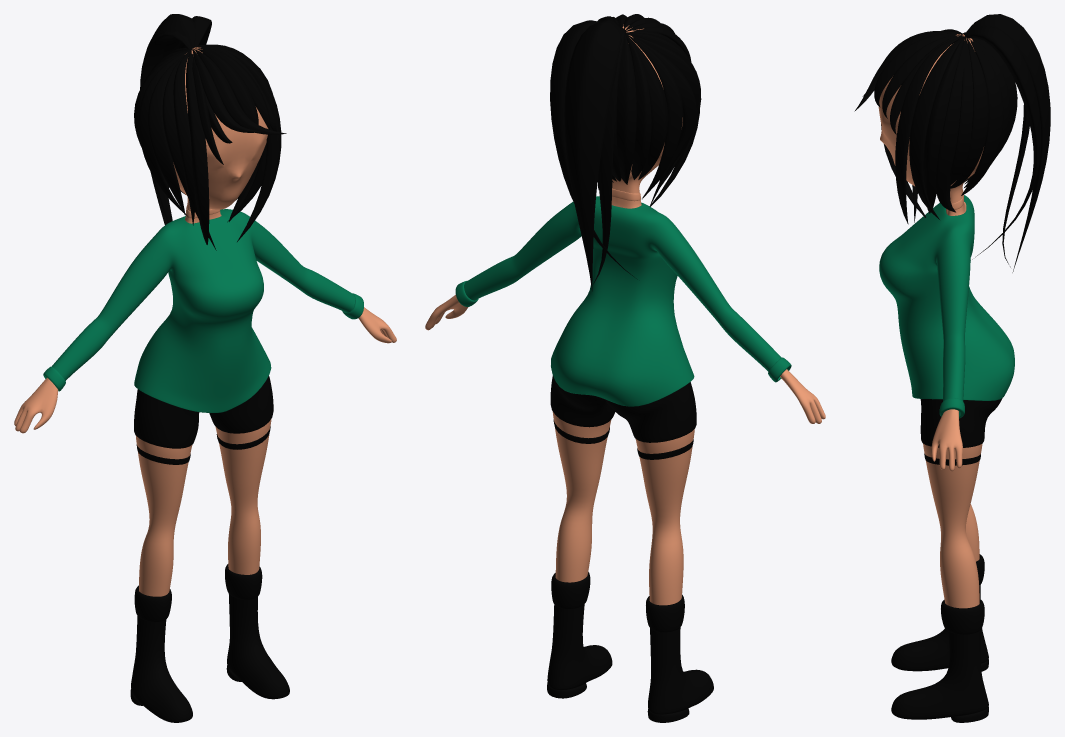
Rendered from pulli.fbx.
The picture shows the model from 3 angles, left to right: view 1: azimuth 30°, elevation 25°; view 2: azimuth 150°, elevation 25°; view 3: azimuth 270°, elevation 25°; orthographic projection. The views are drawn at different scales.
Visible parts, largest first — view 1: Cylinder.001, Cylinder, Cylinder.004, Cylinder.003, NurbsPath.007, NurbsPath.023, NurbsPath.010, NurbsPath.008, NurbsPath.013, NurbsPath.009, NurbsPath.002, NurbsPath.020 (+7 smaller); view 2: Cylinder.001, Cylinder, Cylinder.004, NurbsPath.018, Cylinder.003, NurbsPath.017, NurbsPath.015, NurbsPath.020, NurbsPath.013, NurbsPath.012, NurbsPath.014, NurbsPath.010 (+4 smaller); view 3: Cylinder.001, Cylinder, Cylinder.004, NurbsPath.018, NurbsPath.017, NurbsPath.027, NurbsPath.023, NurbsPath.028, NurbsPath.029, Cylinder.003, NurbsPath.022, NurbsPath.024 (+8 smaller).
Part boxes in pixels (x1=…): Cylinder.001: x1=43, y1=209, x2=363, y2=412; Cylinder: x1=14, y1=47, x2=396, y2=596; Cylinder.004: x1=130, y1=564, x2=289, y2=722; Cylinder.003: x1=134, y1=376, x2=273, y2=448; NurbsPath.007: x1=186, y1=49, x2=209, y2=244; NurbsPath.023: x1=196, y1=45, x2=281, y2=241; NurbsPath.010: x1=148, y1=54, x2=185, y2=215; NurbsPath.008: x1=173, y1=50, x2=195, y2=225; NurbsPath.013: x1=139, y1=51, x2=188, y2=217; NurbsPath.009: x1=162, y1=55, x2=216, y2=250; NurbsPath.002: x1=194, y1=49, x2=286, y2=134; NurbsPath.020: x1=140, y1=31, x2=192, y2=222; Cylinder.001: x1=455, y1=196, x2=791, y2=406; Cylinder: x1=425, y1=24, x2=825, y2=605; Cylinder.004: x1=547, y1=572, x2=713, y2=722; NurbsPath.018: x1=564, y1=19, x2=622, y2=291; Cylinder.003: x1=550, y1=375, x2=696, y2=442; NurbsPath.017: x1=550, y1=20, x2=637, y2=279; NurbsPath.015: x1=616, y1=35, x2=636, y2=184; NurbsPath.020: x1=593, y1=27, x2=626, y2=284; NurbsPath.013: x1=626, y1=34, x2=682, y2=198; NurbsPath.012: x1=626, y1=34, x2=668, y2=179; NurbsPath.014: x1=625, y1=34, x2=651, y2=179; NurbsPath.010: x1=632, y1=36, x2=696, y2=199; Cylinder.001: x1=879, y1=195, x2=1014, y2=418; Cylinder: x1=878, y1=34, x2=983, y2=608; Cylinder.004: x1=891, y1=554, x2=988, y2=722; NurbsPath.018: x1=965, y1=14, x2=1050, y2=272; NurbsPath.017: x1=965, y1=25, x2=1041, y2=259; NurbsPath.027: x1=909, y1=37, x2=963, y2=219; NurbsPath.023: x1=895, y1=36, x2=964, y2=224; NurbsPath.028: x1=923, y1=36, x2=965, y2=213; NurbsPath.029: x1=935, y1=40, x2=965, y2=212; Cylinder.003: x1=920, y1=398, x2=1002, y2=447; NurbsPath.022: x1=961, y1=38, x2=1003, y2=195; NurbsPath.024: x1=950, y1=38, x2=989, y2=188.
Bounding box in the file's own units: 138 × 232 × 61.06.
